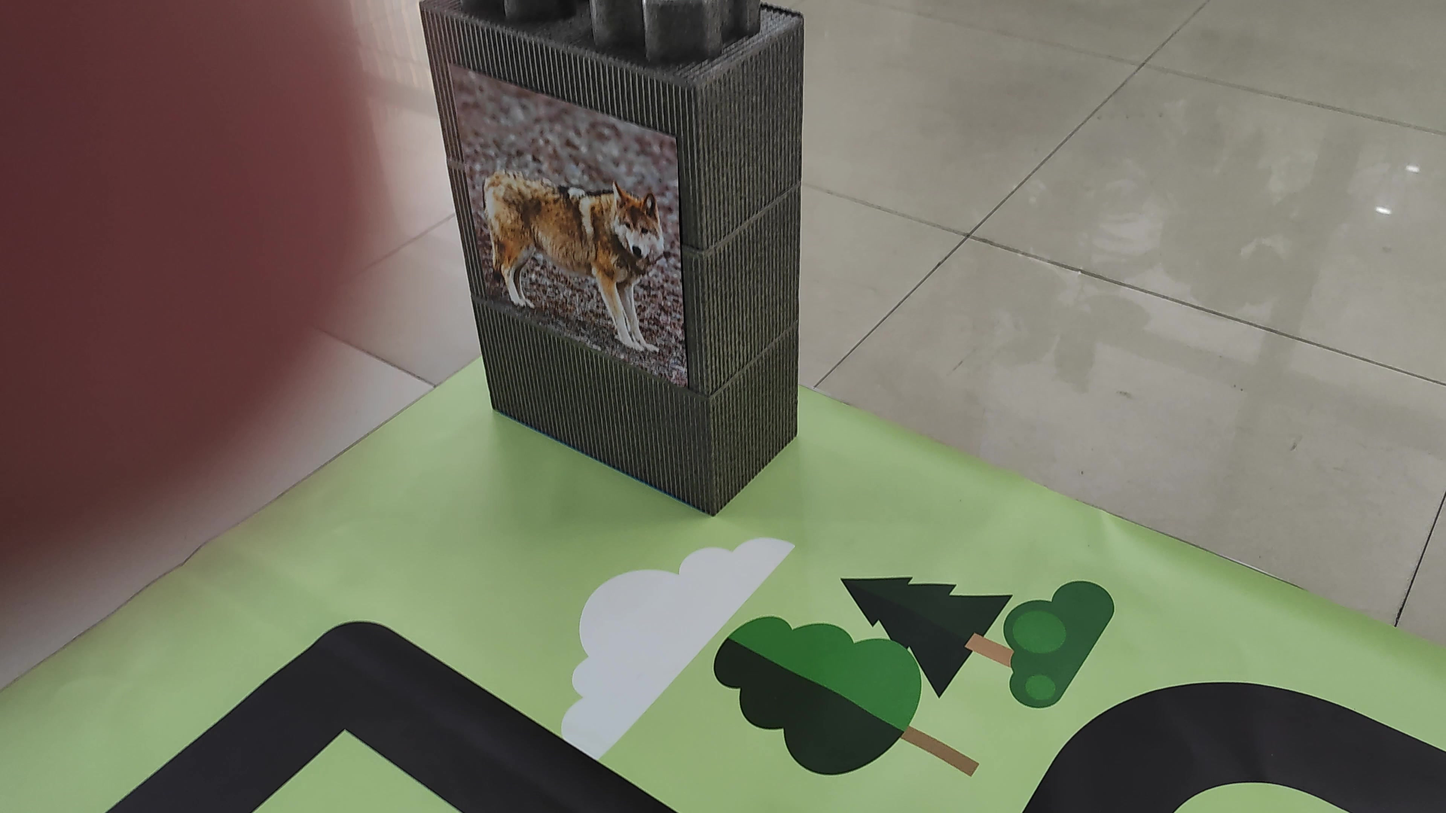wolf: (468, 76, 668, 360)
